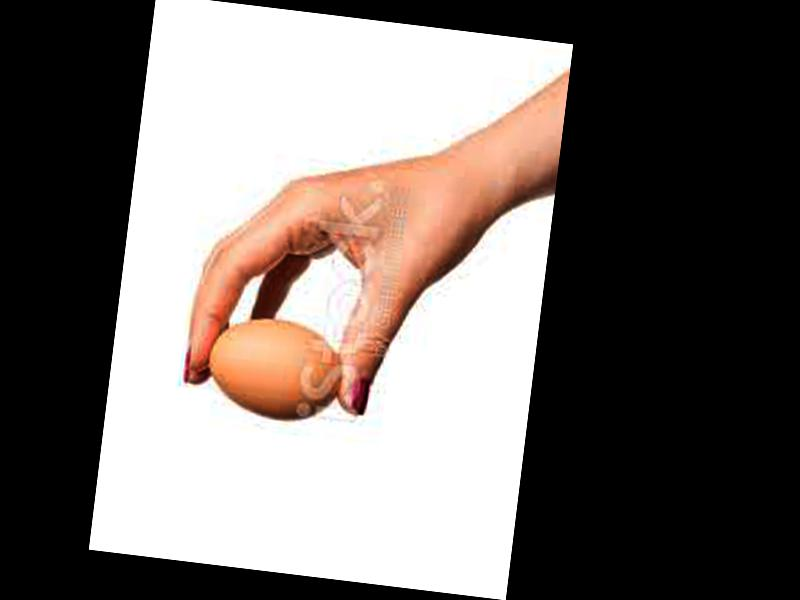Eggs: (204, 314, 347, 422)
